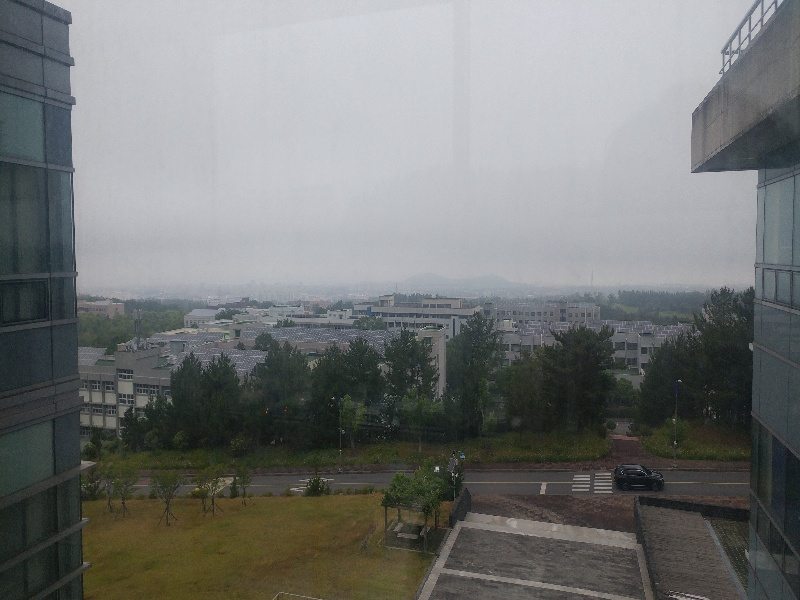College of Natural Science: (79, 297, 128, 324)
Cultural lecture hall: (82, 356, 179, 442)
